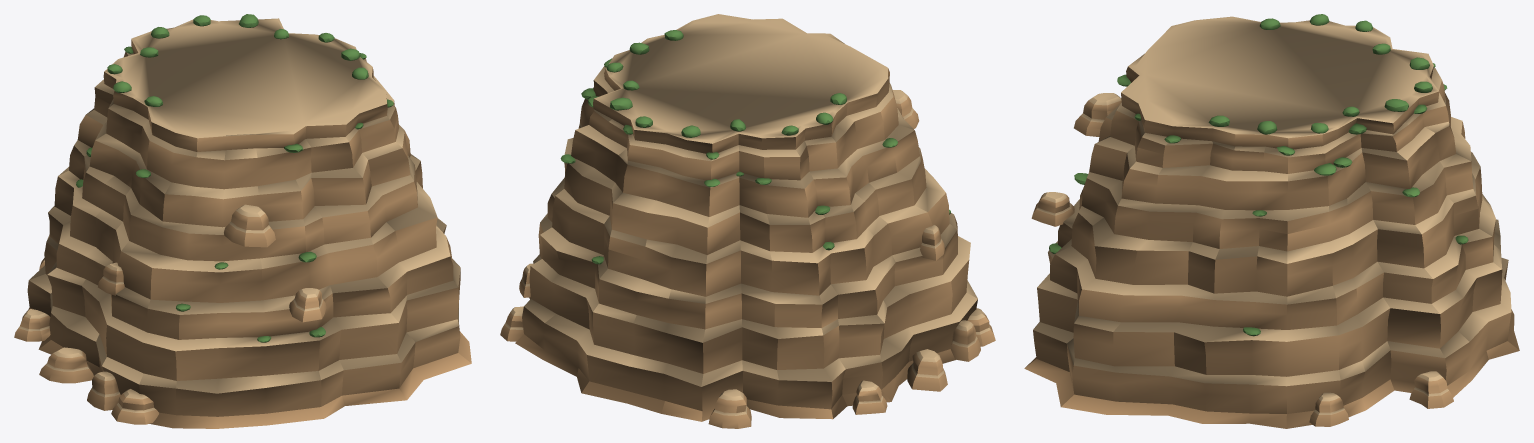
File: cliff_headland.fbx
3 views of the same model, side by side, from view 1: azimuth 30°, elevation 25°; view 2: azimuth 150°, elevation 25°; view 3: azimuth 270°, elevation 25° (orthographic). The views are drawn at different scales.
Visible parts, largest first — view 1: cliff_headland; view 2: cliff_headland; view 3: cliff_headland.
Boxes of the visible parts, x1,y1,x2,y2 form: cliff_headland: [14, 14, 471, 428]; cliff_headland: [500, 14, 995, 428]; cliff_headland: [1024, 14, 1519, 428].
Size of the model in its own units: 39.75 by 25.35 by 40.36.
